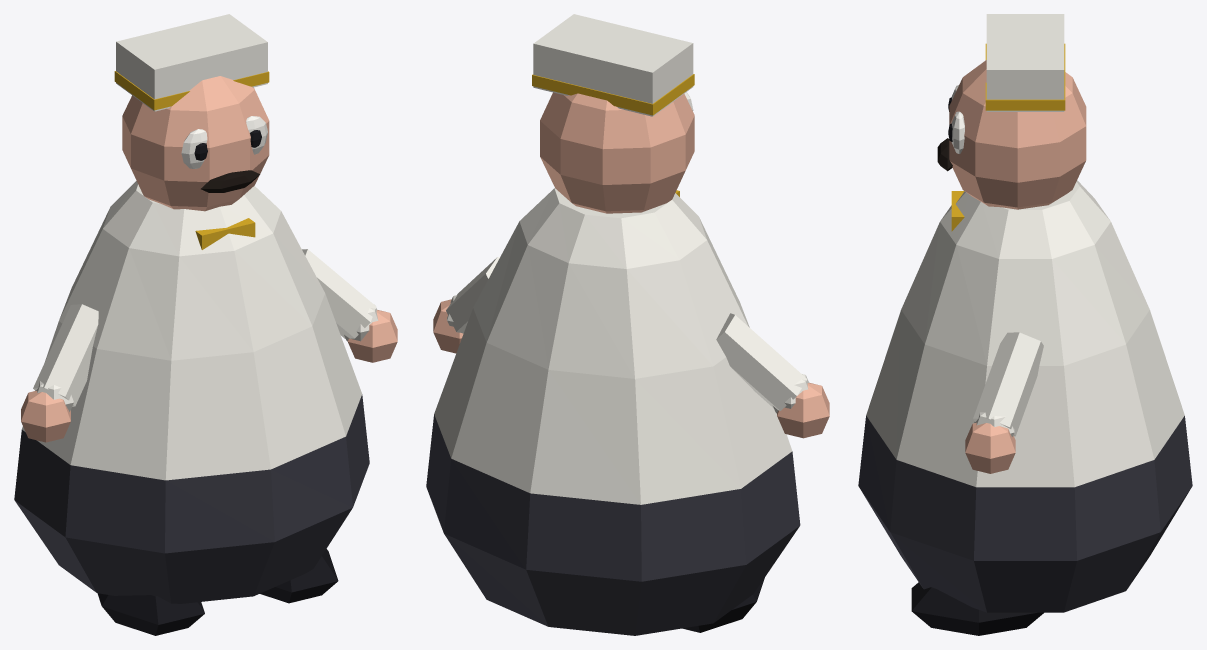
The model's file is npc_mostaza.glb.
The picture shows the model from 3 angles, left to right: view 1: azimuth 30°, elevation 25°; view 2: azimuth 150°, elevation 25°; view 3: azimuth 270°, elevation 25°; orthographic projection. The views are drawn at different scales.
Visible parts, largest first — view 1: body_vendor_jacket, body_vendor_pants, head_skin_rosada, hat_vendor_jacket, arms_vendor_jacket, legs_black, arms_skin_rosada, hat_mustard, face_white, face_mustache_black, body_mustard; view 2: body_vendor_jacket, body_vendor_pants, head_skin_rosada, hat_vendor_jacket, arms_vendor_jacket, arms_skin_rosada, hat_mustard, legs_black; view 3: body_vendor_jacket, body_vendor_pants, head_skin_rosada, hat_vendor_jacket, arms_vendor_jacket, legs_black, arms_skin_rosada, hat_mustard, face_white.
Part boxes in pixels (<box>): body_vendor_jacket: <box>22,181,361,480</box>; body_vendor_pants: <box>14,394,369,603</box>; head_skin_rosada: <box>122,76,269,211</box>; hat_vendor_jacket: <box>116,14,267,111</box>; arms_vendor_jacket: <box>33,249,378,411</box>; legs_black: <box>97,549,338,635</box>; arms_skin_rosada: <box>21,310,397,442</box>; hat_mustard: <box>114,71,269,110</box>; face_white: <box>181,116,267,168</box>; face_mustache_black: <box>201,170,259,192</box>; body_mustard: <box>195,218,255,249</box>; body_vendor_jacket: <box>434,188,792,504</box>; body_vendor_pants: <box>426,414,800,635</box>; head_skin_rosada: <box>540,92,694,213</box>; hat_vendor_jacket: <box>533,14,693,116</box>; arms_vendor_jacket: <box>446,257,809,413</box>; arms_skin_rosada: <box>433,299,829,438</box>; hat_mustard: <box>532,74,694,115</box>; legs_black: <box>682,578,764,632</box>; body_vendor_jacket: <box>866,180,1184,487</box>; body_vendor_pants: <box>858,416,1192,612</box>; head_skin_rosada: <box>949,60,1086,209</box>; hat_vendor_jacket: <box>986,14,1064,111</box>; arms_vendor_jacket: <box>973,332,1043,436</box>; legs_black: <box>911,582,1043,635</box>; arms_skin_rosada: <box>965,422,1015,473</box>; hat_mustard: <box>985,43,1065,110</box>; face_white: <box>951,85,964,153</box>.
Bounding box in the file's own units: 1.13 × 1.57 × 0.86.
